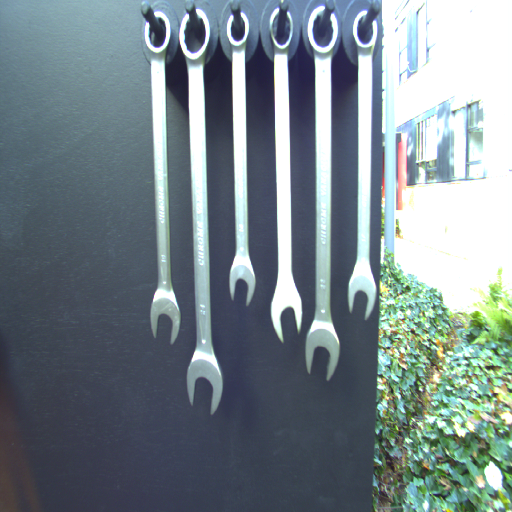bottom: (186, 350, 226, 418), (304, 323, 343, 384), (271, 278, 304, 343), (148, 285, 182, 347), (347, 262, 377, 324), (227, 253, 255, 307)
top: (303, 5, 342, 60), (178, 7, 216, 63), (139, 9, 174, 62), (220, 8, 255, 60), (265, 7, 300, 54), (353, 9, 381, 54)
